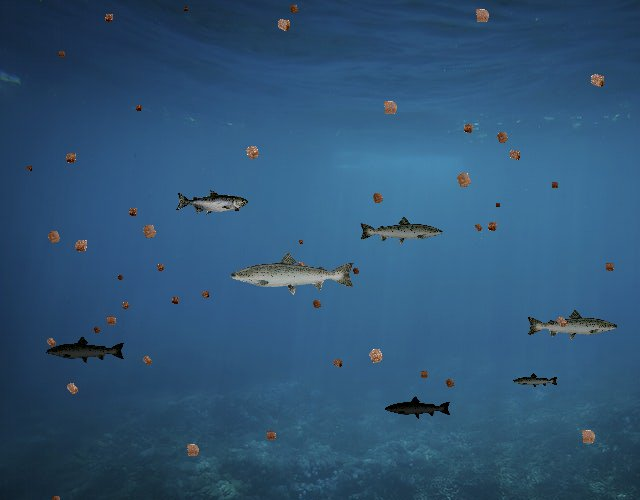Fish: (228, 250, 357, 296), (526, 308, 620, 342), (358, 215, 444, 246), (46, 335, 127, 365), (175, 190, 248, 216), (384, 396, 452, 420), (513, 372, 560, 389)
Pellet: (238, 139, 266, 167), (270, 12, 297, 39), (60, 376, 85, 401), (23, 163, 35, 175)
